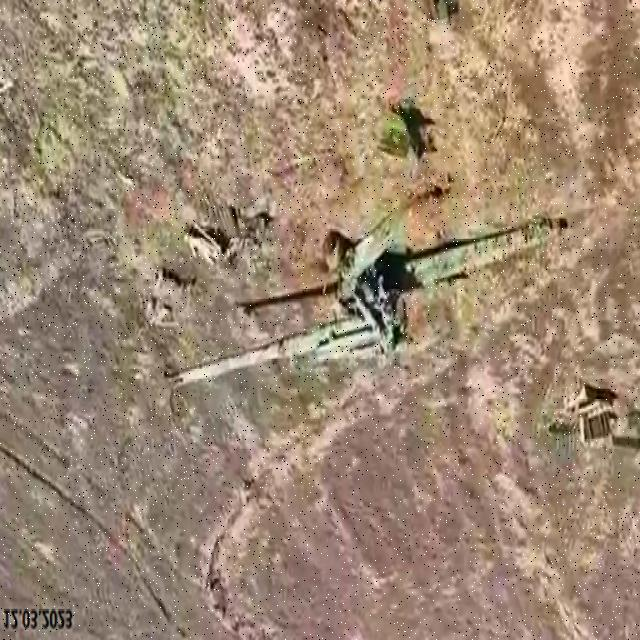ART: (162, 180, 564, 398)
